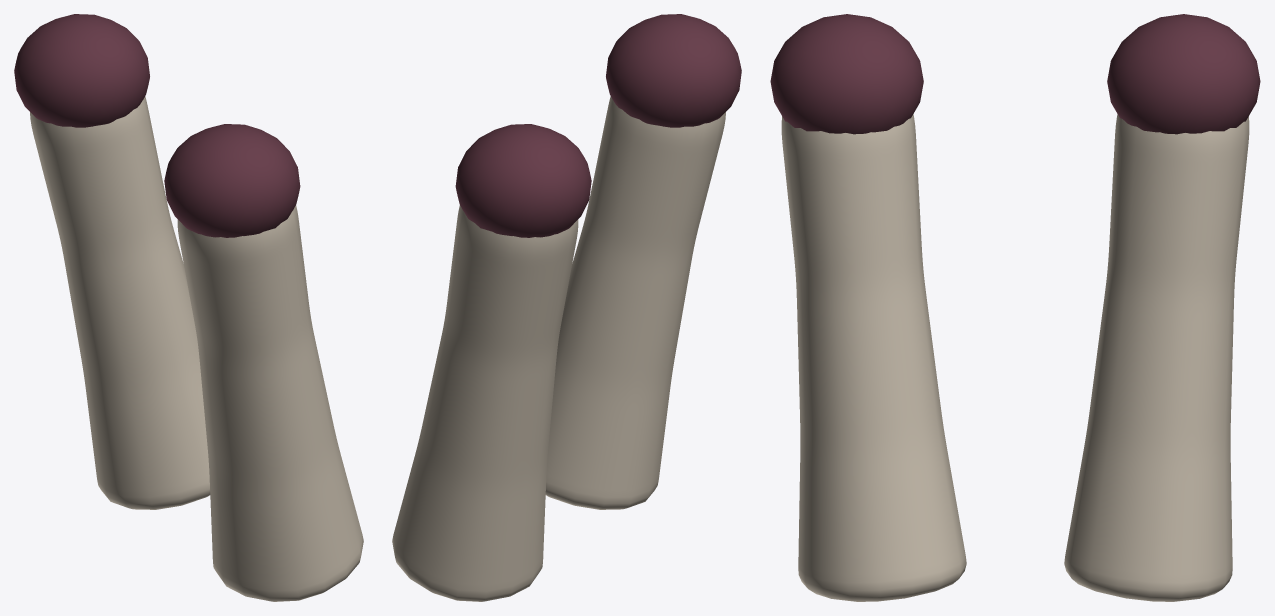
Rendered from creature.ossicones.glb.
The picture shows the model from 3 angles, left to right: view 1: azimuth 30°, elevation 25°; view 2: azimuth 150°, elevation 25°; view 3: azimuth 270°, elevation 25°; orthographic projection. The views are drawn at different scales.
Visible parts, largest first — view 1: Skin, Dark; view 2: Skin, Dark; view 3: Skin, Dark.
Part boxes in pixels (x1=…): Skin: x1=30, y1=96, x2=363, y2=601; Dark: x1=14, y1=14, x2=300, y2=237; Skin: x1=392, y1=96, x2=725, y2=601; Dark: x1=455, y1=14, x2=741, y2=237; Skin: x1=781, y1=114, x2=1249, y2=601; Dark: x1=770, y1=14, x2=1260, y2=134.
Size of the model in its own units: 0.2705 by 0.6305 by 0.524.
